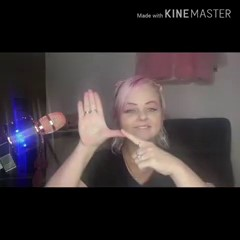A: (71, 87, 176, 179)
